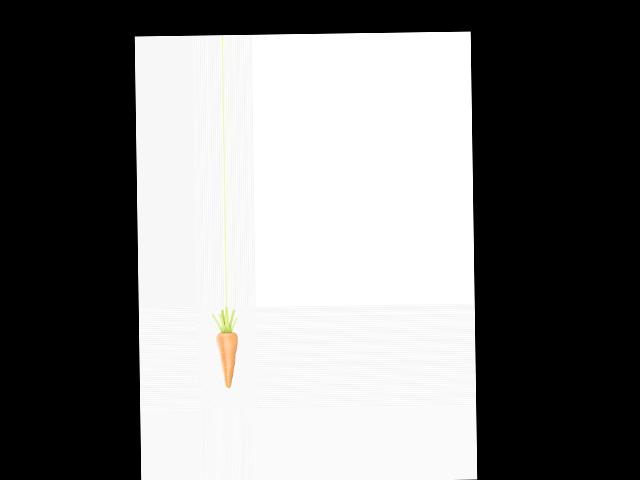carrot: (213, 327, 240, 389)
